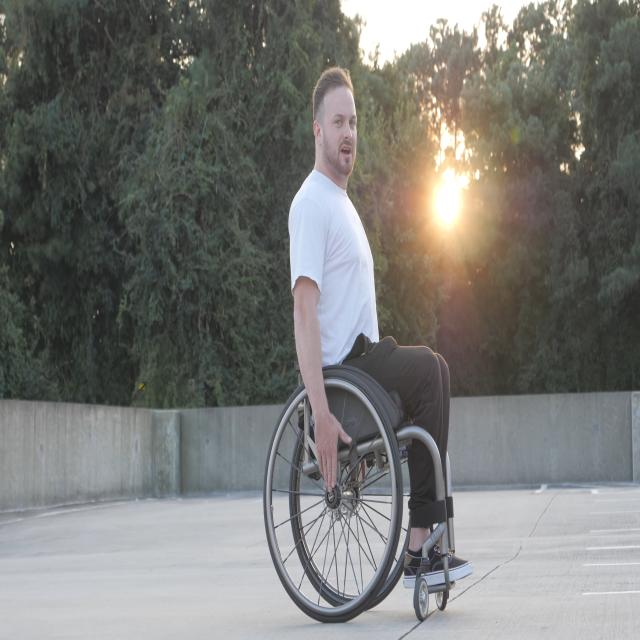wheelchairs: (264, 277, 459, 627)
